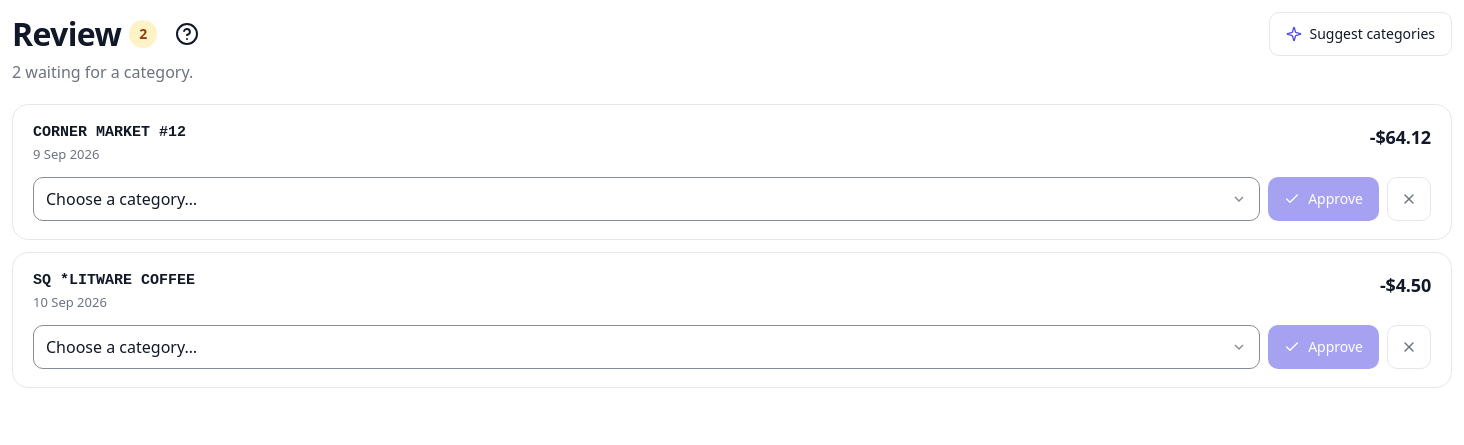
Test: Review asks the AI for categories › without the helper, says so in one line when asked
Click the button "Suggest categories": (1360, 34) [1268,12,1452,56]
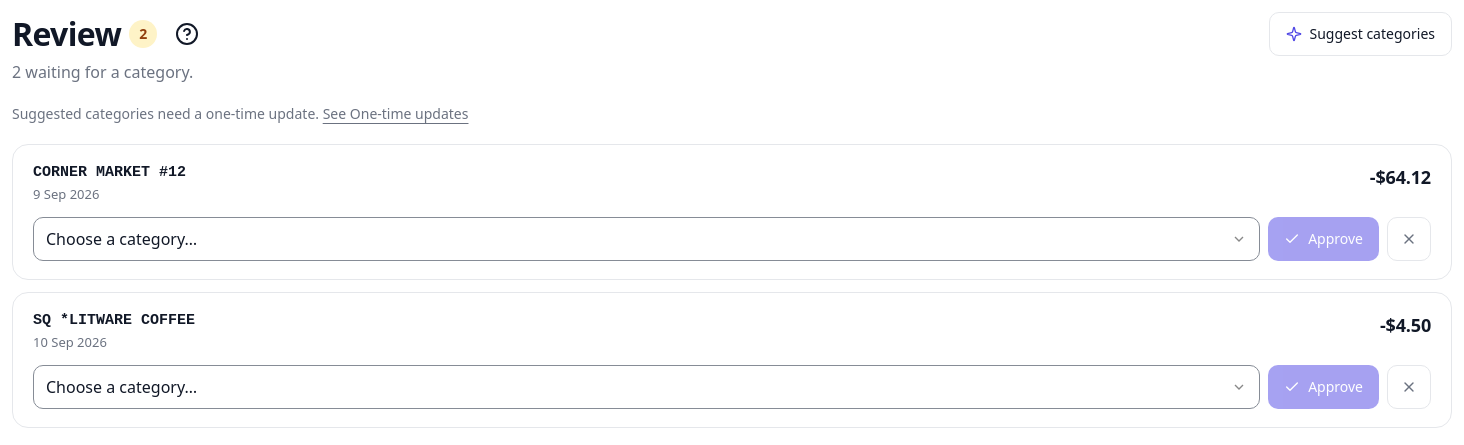
Expected: the text "SQ *LITWARE COFFEE" is shown, [33,312,195,329]
Result: the text "Suggested categories need a one-time update." is shown at [12,104,319,123]
